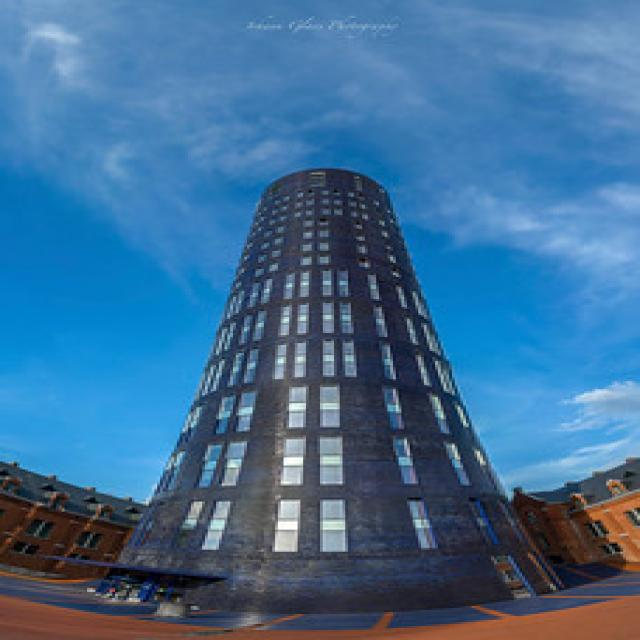building: (111, 161, 571, 619)
